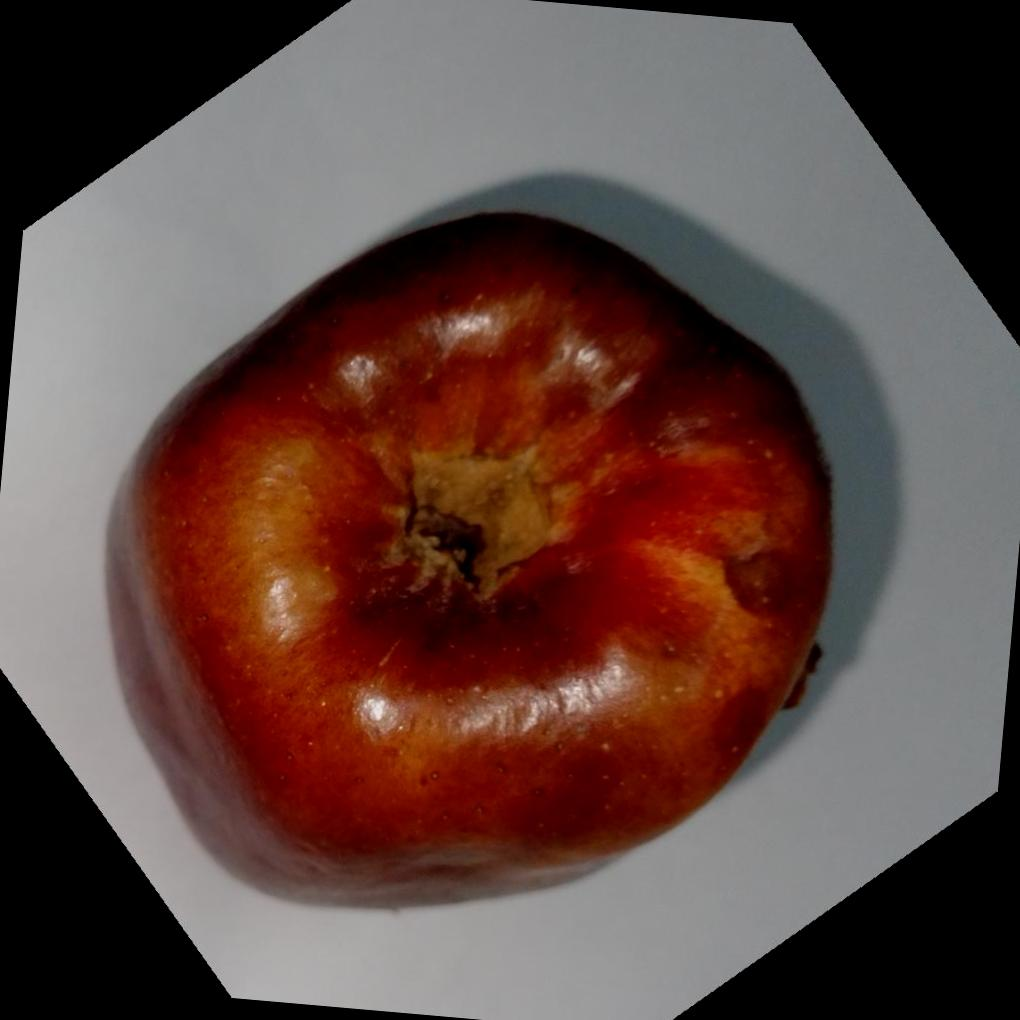FreshOrange: (107, 211, 835, 912)
